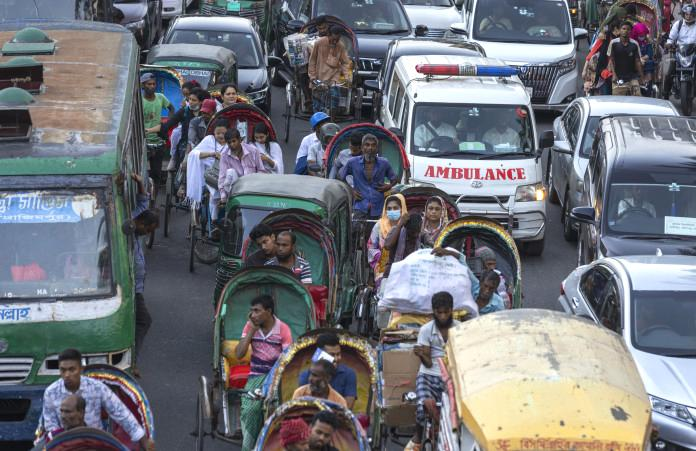ambulance: (393, 57, 543, 192)
